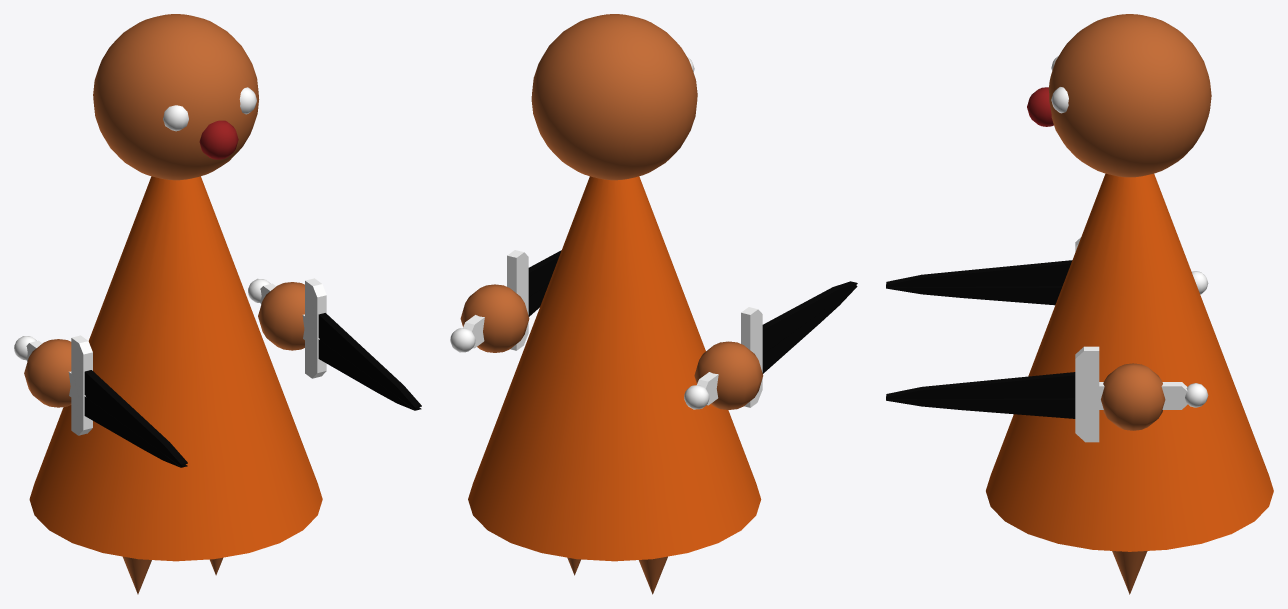
File: MeleeModel2.FBX
The picture shows the model from 3 angles, left to right: view 1: azimuth 30°, elevation 25°; view 2: azimuth 150°, elevation 25°; view 3: azimuth 270°, elevation 25°; orthographic projection.
Parts seen in each view (by area): view 1: Human_Team2; view 2: Human_Team2; view 3: Human_Team2.
Part boxes in pixels (left/top/right/bottom): Human_Team2: left=14, top=14, right=421, bottom=594; Human_Team2: left=450, top=14, right=857, bottom=594; Human_Team2: left=886, top=14, right=1273, bottom=594.
Bounding box in the file's own units: 51.45 × 59.93 × 94.47.
